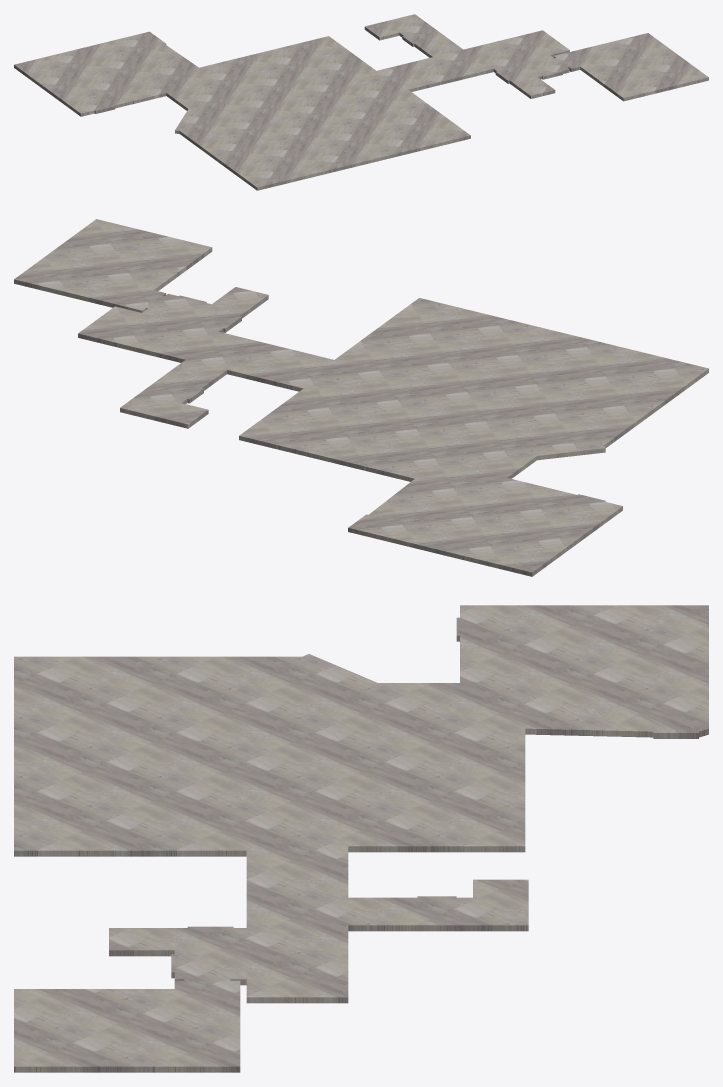
Rendered from Floor_WatercrestPinePlusReclaimedPine.glb.
The picture shows the model from 3 angles, top to bottom: view 1: azimuth 30°, elevation 25°; view 2: azimuth 150°, elevation 25°; view 3: azimuth 270°, elevation 25°; orthographic projection. The views are drawn at different scales.
Parts seen in each view (by area): view 1: Floors_Watercrest_pine_plus_reclaimed_pine; view 2: Floors_Watercrest_pine_plus_reclaimed_pine; view 3: Floors_Watercrest_pine_plus_reclaimed_pine.
Boxes of the visible parts, <box> form: Floors_Watercrest_pine_plus_reclaimed_pine: <box>14,14,708,190</box>; Floors_Watercrest_pine_plus_reclaimed_pine: <box>14,219,708,576</box>; Floors_Watercrest_pine_plus_reclaimed_pine: <box>14,605,708,1072</box>.
Bounding box in the file's own units: 33.3 × 0.3 × 21.2.
1 material, 1 textured.
